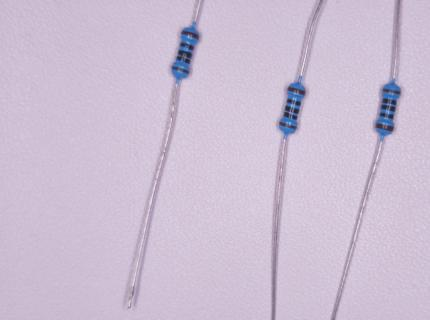Black band: (176, 56, 191, 64), (178, 51, 193, 59), (181, 43, 195, 51), (284, 112, 298, 120), (285, 106, 299, 114), (287, 99, 301, 107), (379, 113, 394, 120), (381, 105, 396, 112), (382, 99, 397, 106)
Brown band: (375, 123, 394, 132), (288, 86, 305, 96), (182, 31, 200, 40), (279, 121, 297, 130), (172, 67, 190, 74), (382, 89, 401, 95)
